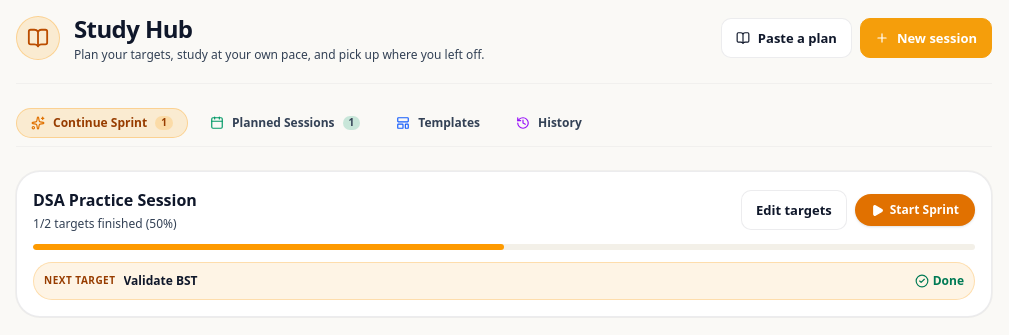
Test case: StudyView Component › switches to Planned tab and displays upcoming study sessions
Click the tab "Planned Sessions 1": point(285, 123) [196,109,374,137]
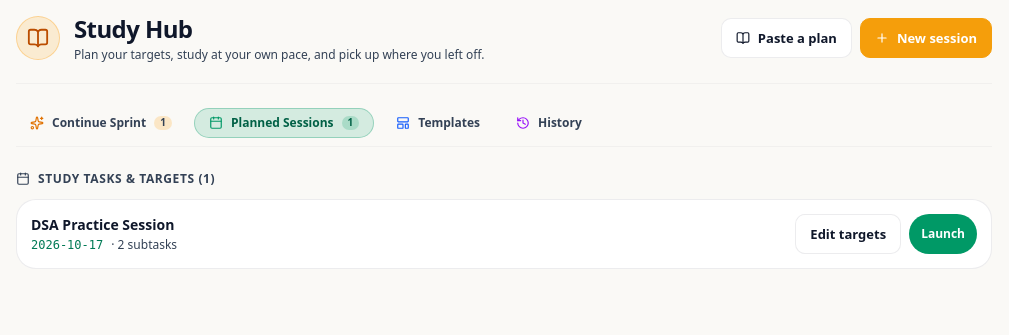
Check: the heading "DSA Practice Session" is shown, box [31,215,177,235]
Check: the text "2026-10-17" is shown, box [31,237,103,253]
